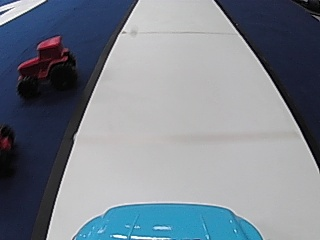tractor: (14, 33, 77, 99)
